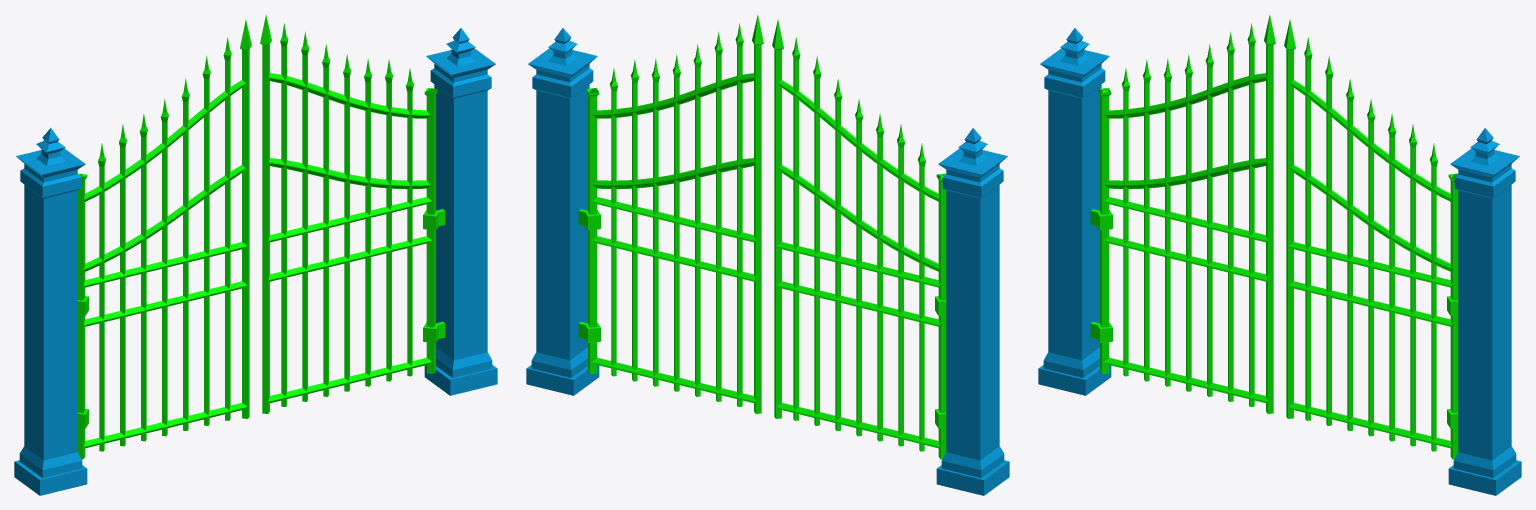
The model's file is graveyard_gate.fbx.
3 views of the same model, side by side, from view 1: azimuth 30°, elevation 25°; view 2: azimuth 150°, elevation 25°; view 3: azimuth 330°, elevation 25° (orthographic).
Visible parts, largest first — view 1: fence_gate_right, fence_gate_left, fence_gate_pillars_left, fence_gate_pillars_right; view 2: fence_gate_right, fence_gate_left, fence_gate_pillars_left, fence_gate_pillars_right; view 3: fence_gate_left, fence_gate_right, fence_gate_pillars_right, fence_gate_pillars_left.
Boxes of the visible parts, box(x1,y1,x2,y2) form: fence_gate_right: box(260, 14, 437, 413); fence_gate_left: box(77, 19, 251, 459); fence_gate_pillars_left: box(14, 128, 88, 495); fence_gate_pillars_right: box(423, 28, 497, 395); fence_gate_right: box(586, 14, 763, 413); fence_gate_left: box(772, 19, 946, 459); fence_gate_pillars_left: box(935, 128, 1009, 495); fence_gate_pillars_right: box(526, 28, 600, 395); fence_gate_left: box(1098, 14, 1275, 413); fence_gate_right: box(1284, 19, 1458, 459); fence_gate_pillars_right: box(1447, 128, 1521, 495); fence_gate_pillars_left: box(1038, 28, 1112, 395).
Bounding box in the file's own units: 227 × 197 × 22.
